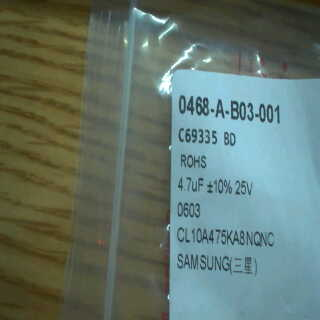4.7uF: (175, 174, 205, 196)
